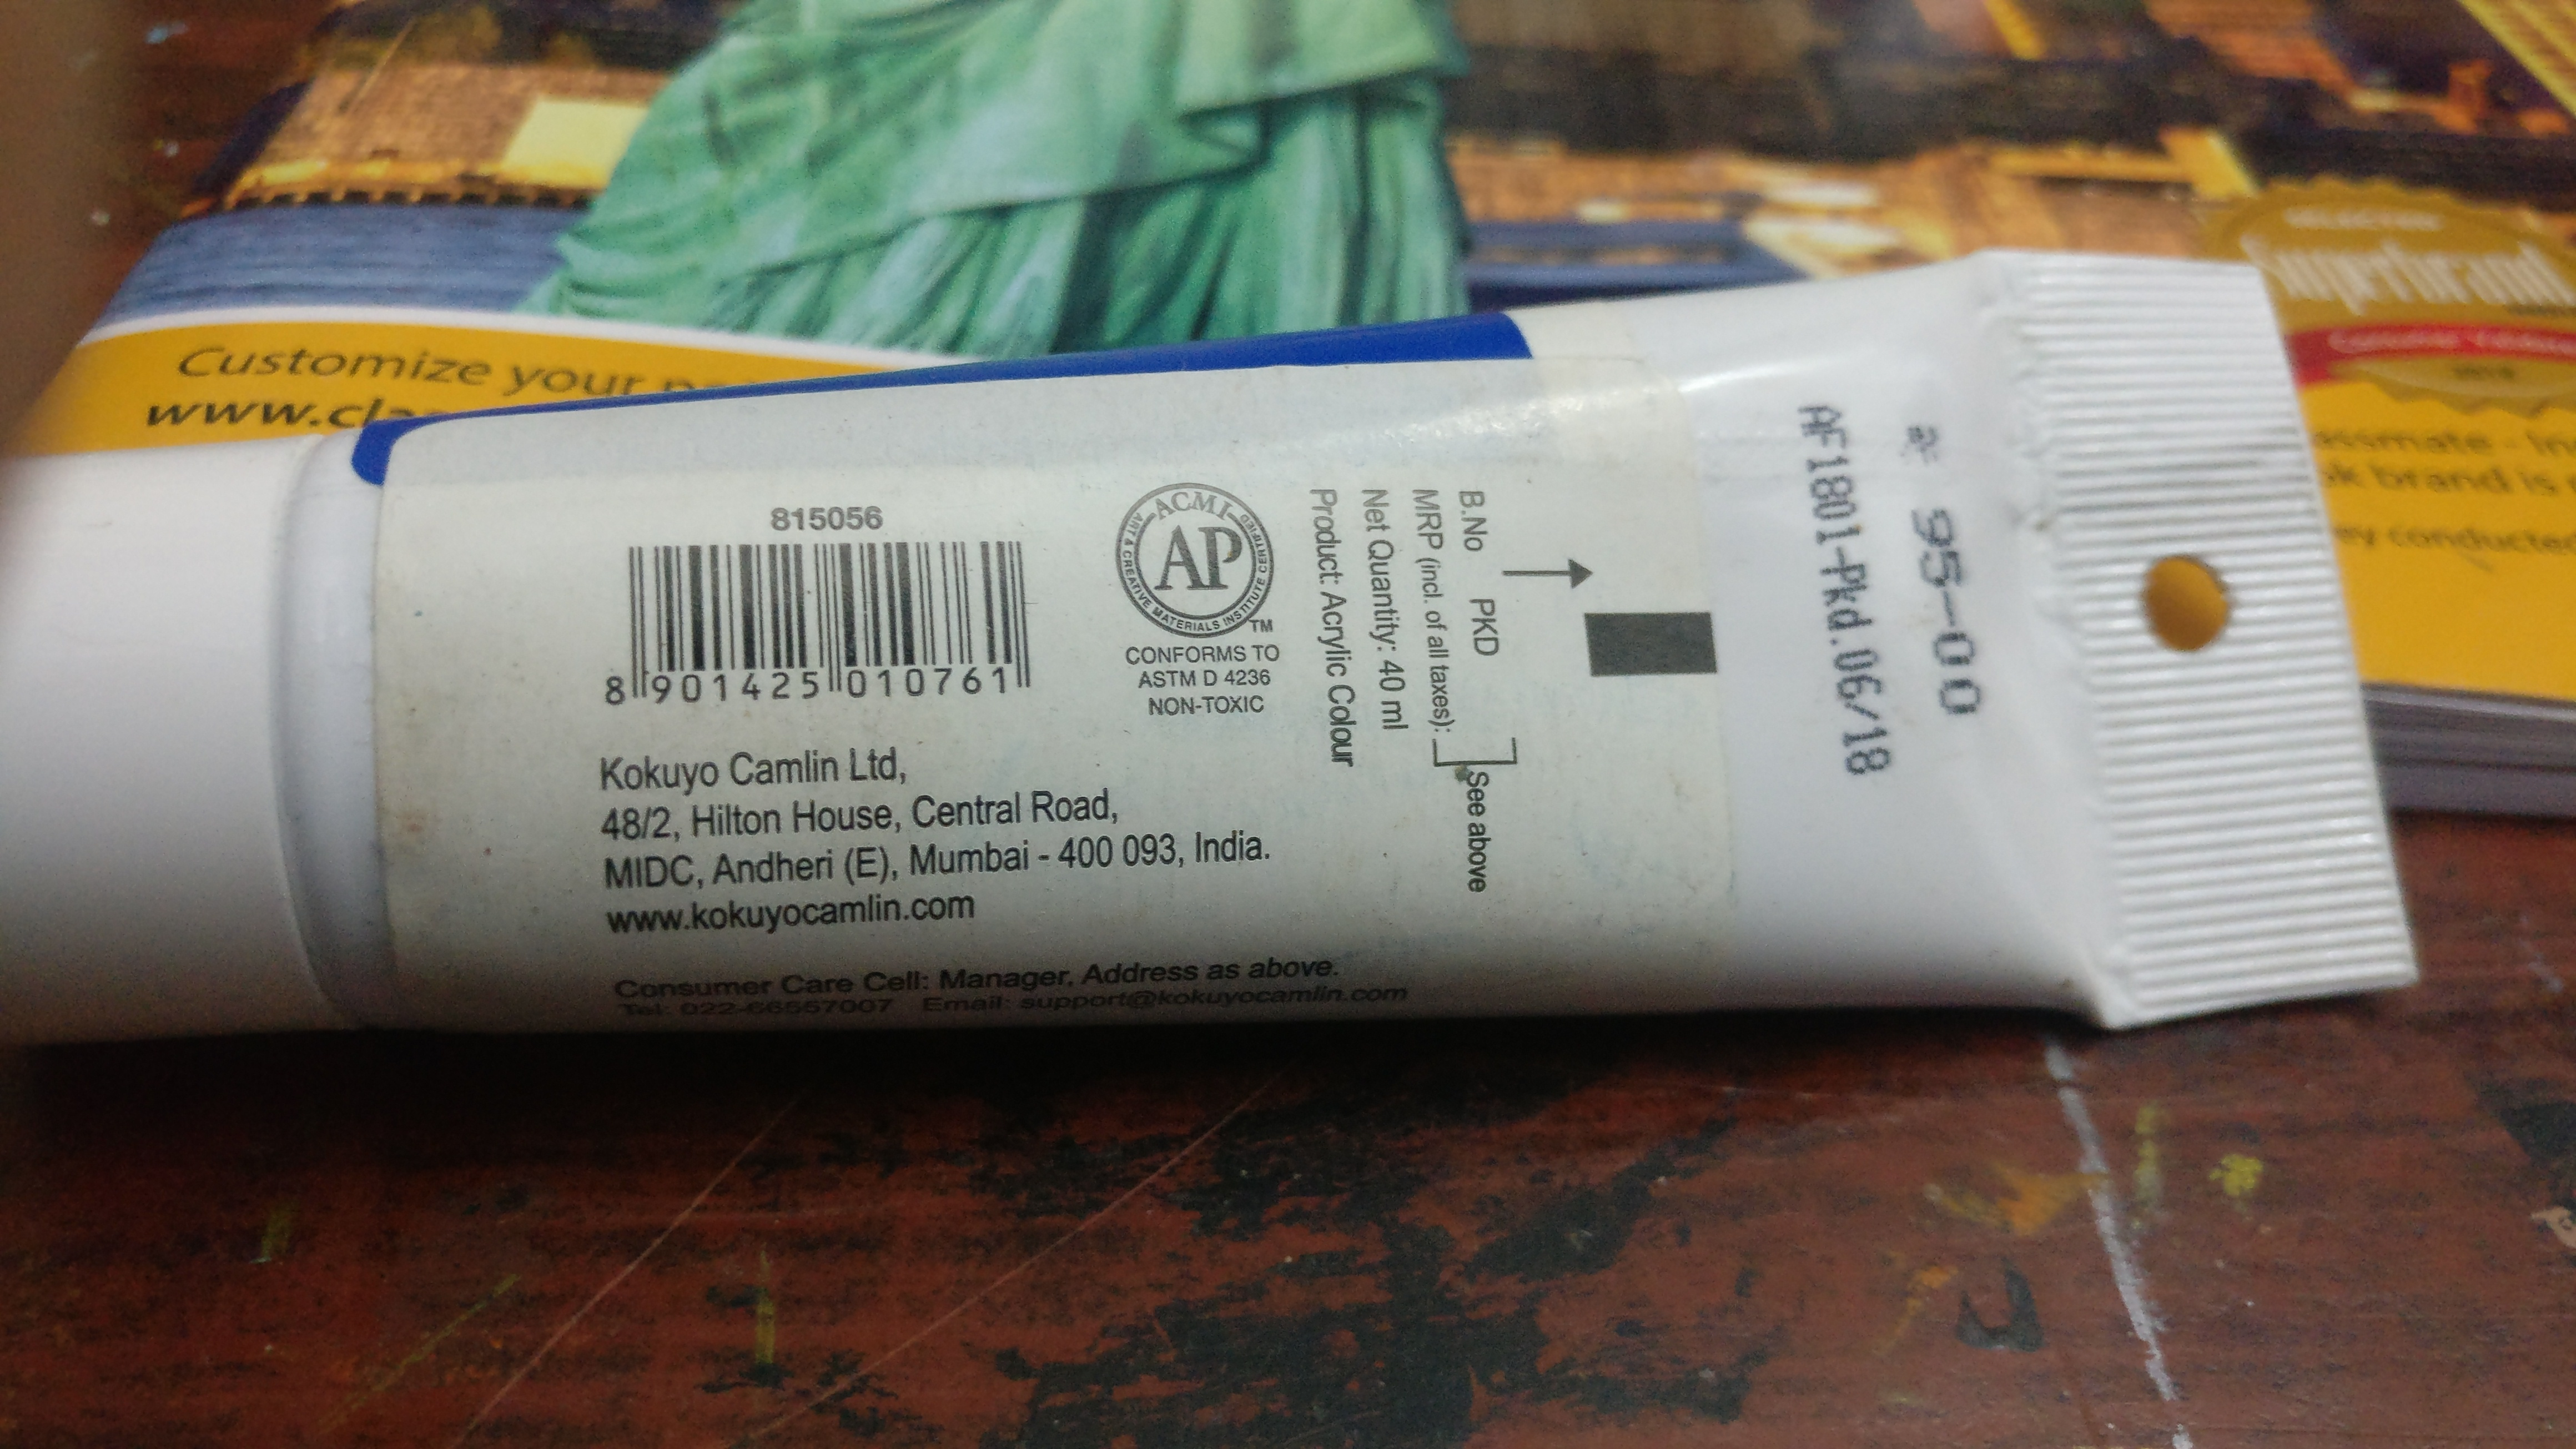barcode: (554, 492, 1042, 711)
